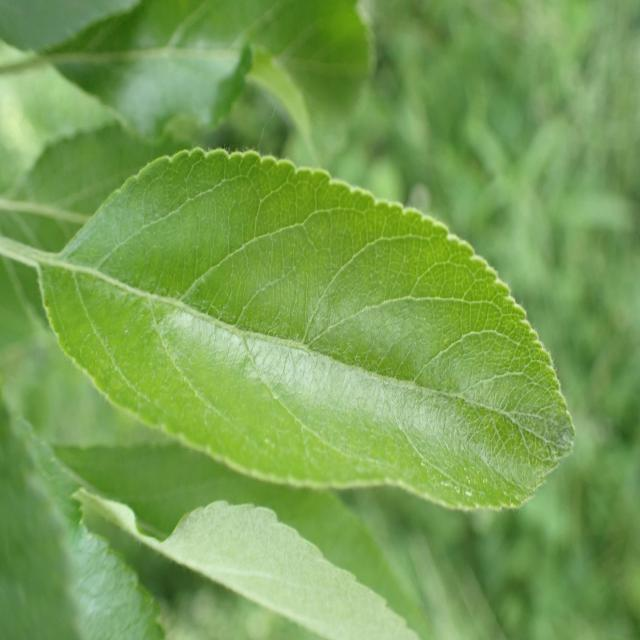healthy: (35, 145, 577, 512)
